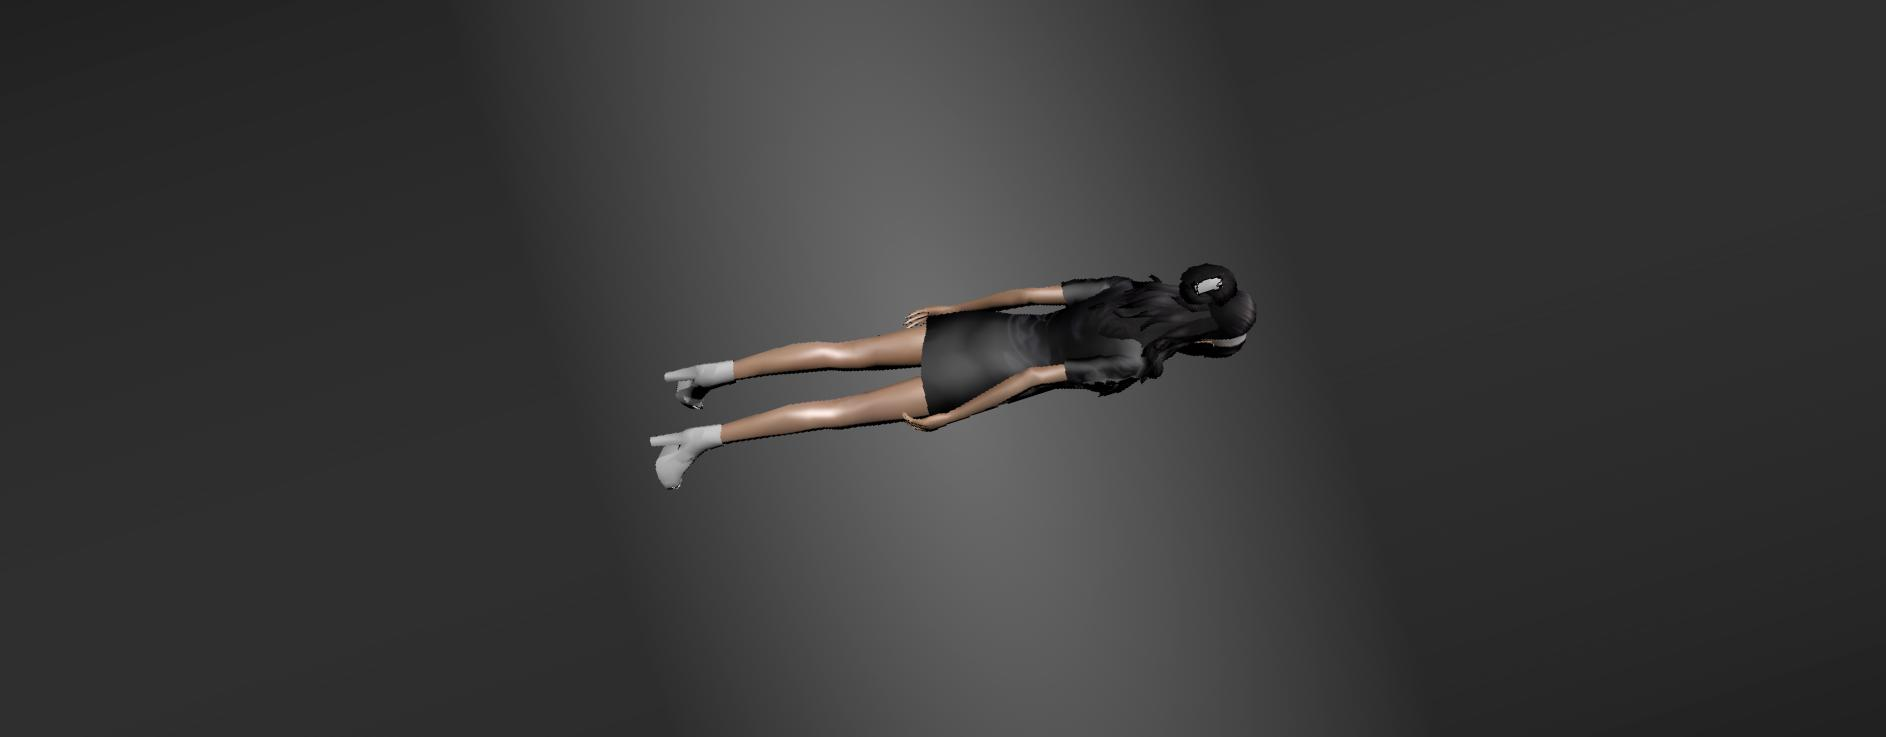clip: (1196, 275, 1224, 292)
